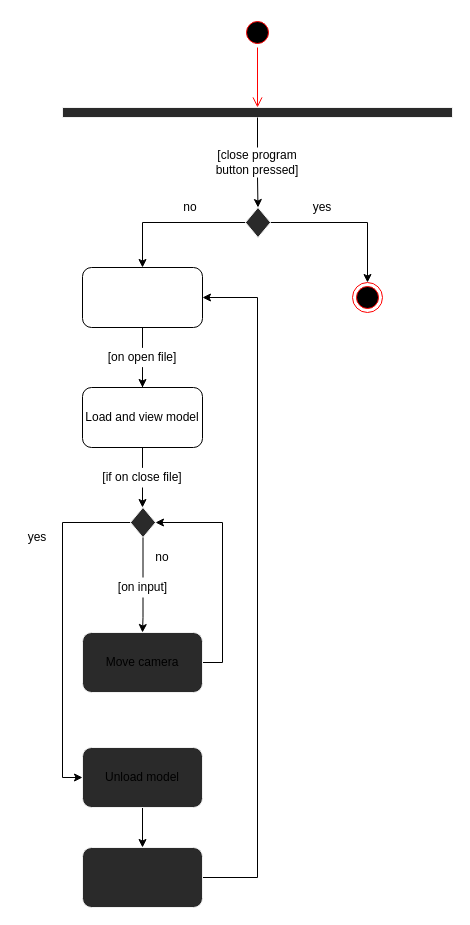
This 470x925 diagram has some shape labels left out. Here are the shapes that lost their labels. From the top down, the box of each, then its label:
(82, 266, 202, 328): Open blank scene with cube
(82, 846, 202, 908): Load default cube
